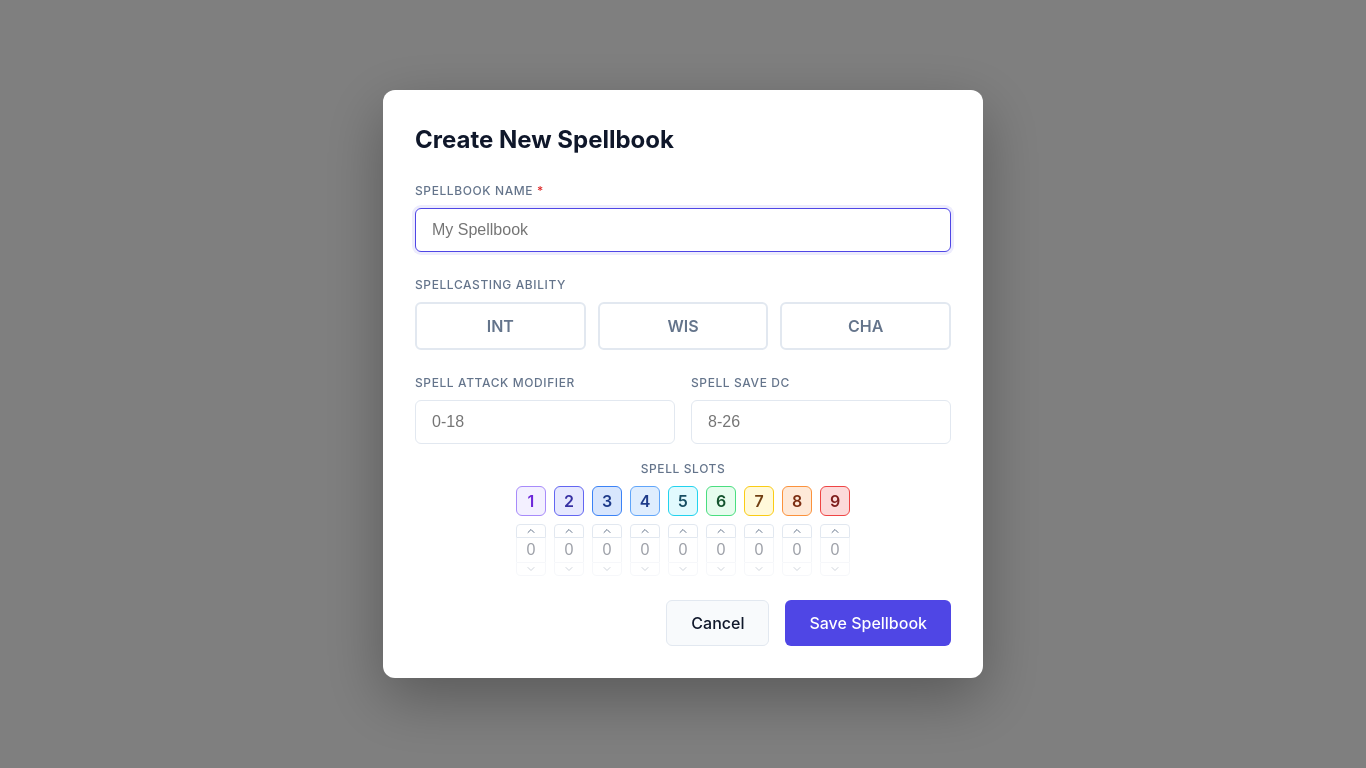
Test: CreateSpellbookModal › should handle submission error
Type "New Spellbook" into the field with test id "spellbook-name-input" at (683, 230), box [415, 208, 951, 252]
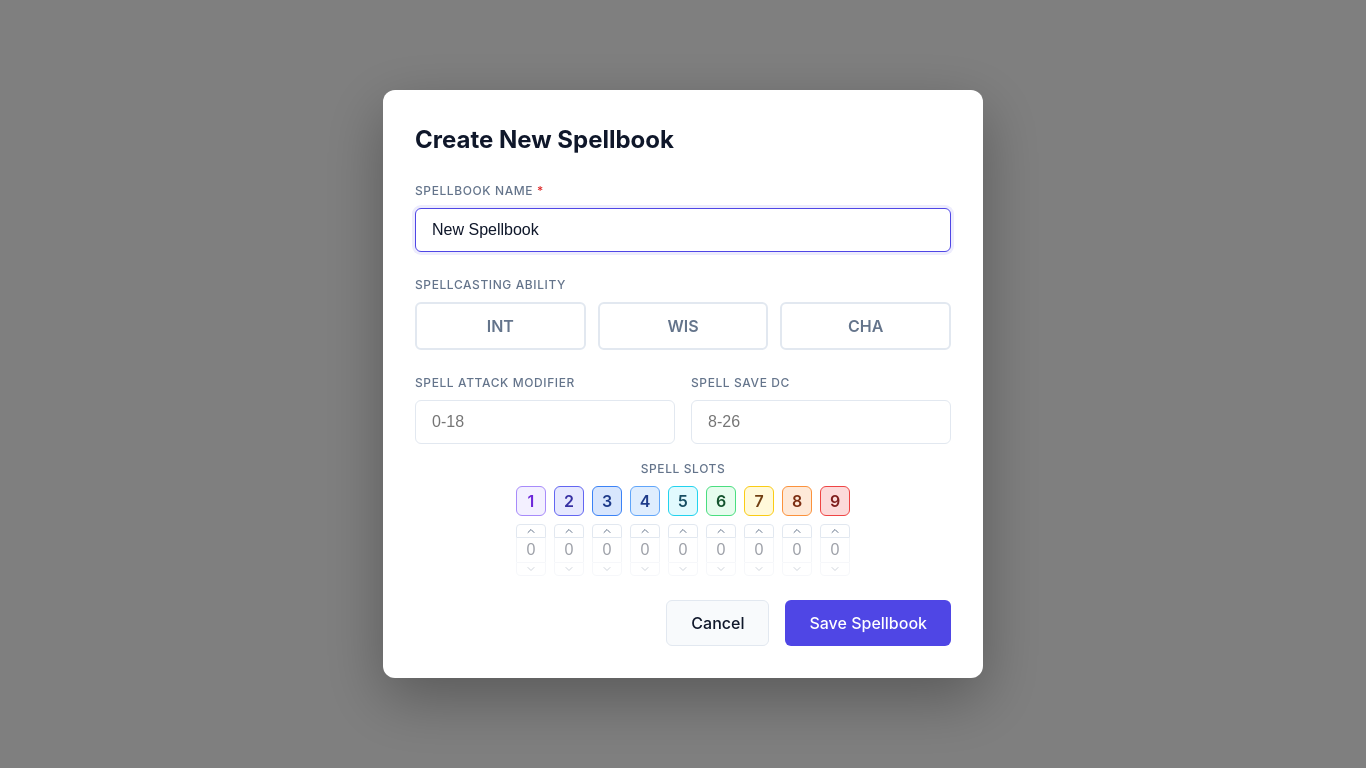
Click the button with test id "create-button" at (868, 623), box [785, 600, 951, 646]
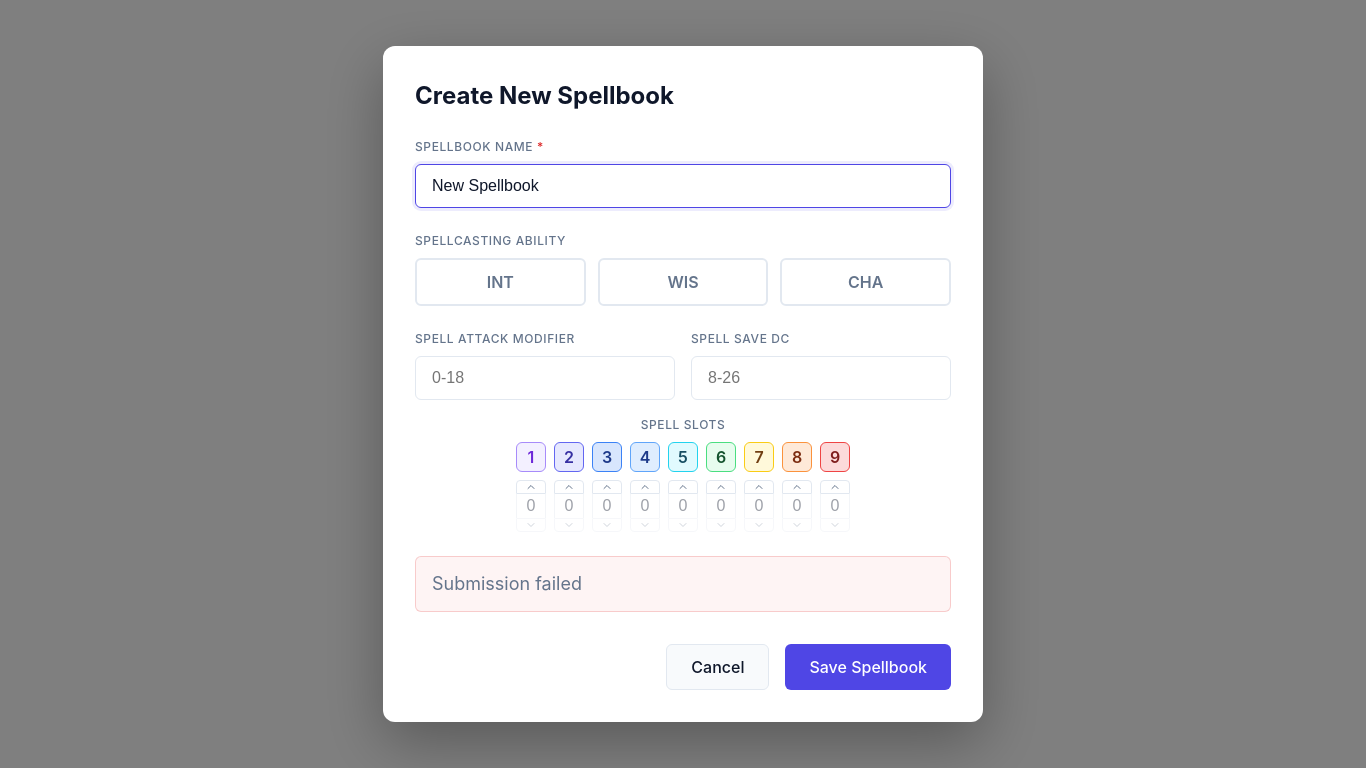
Expected: the text "Submission failed" is shown, [415, 556, 951, 612]
